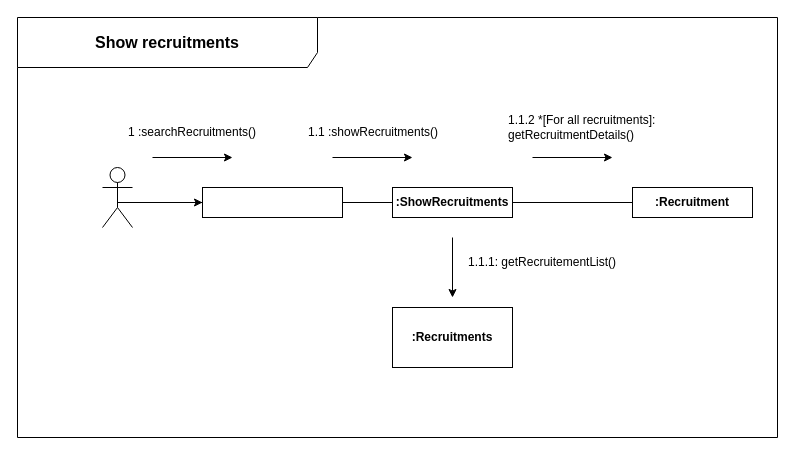
Image size: 795x455. Some labels were removed from this diagram. Each missing label, with the box of its shape:
:GeneralMember: (102, 166, 132, 228)
:ShowRecruitmentsUI: (202, 186, 342, 218)
